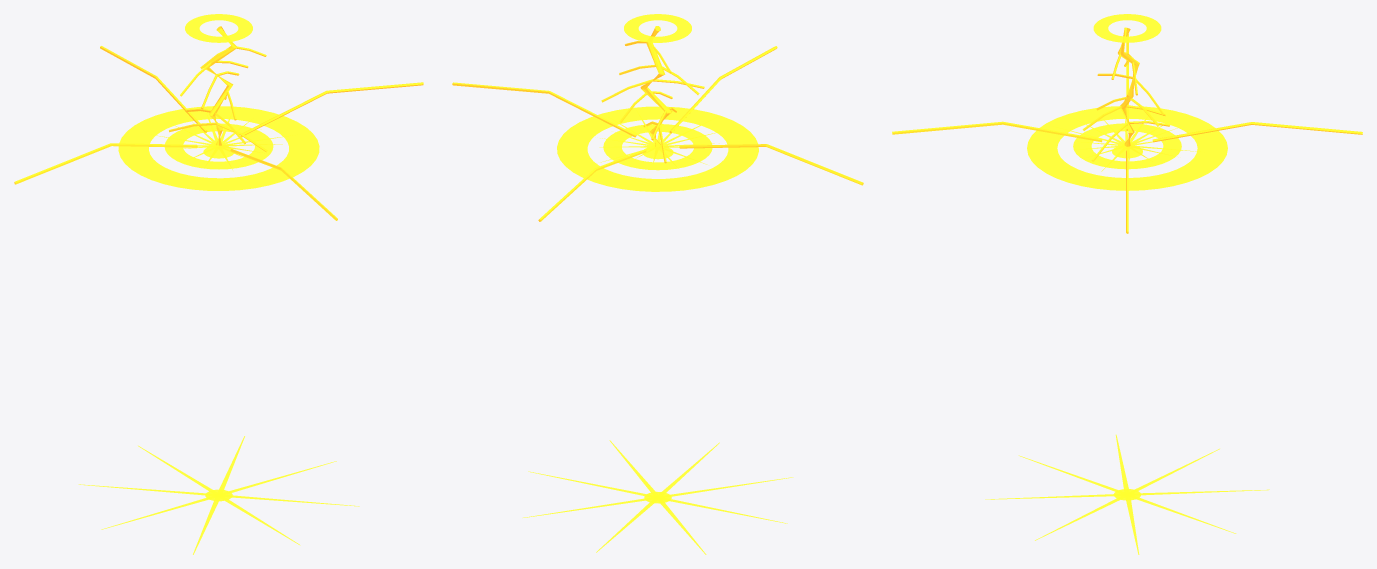
Rendered from leaderboard-lightning.glb.
3 renders of one model, left to right at view 1: azimuth 30°, elevation 25°; view 2: azimuth 150°, elevation 25°; view 3: azimuth 270°, elevation 25°, orthographic.
Parts seen in each view (by area): view 1: leaderboard_lightning_apex_strike; view 2: leaderboard_lightning_apex_strike; view 3: leaderboard_lightning_apex_strike.
Boxes of the visible parts, x1,y1,x2,y2 form: leaderboard_lightning_apex_strike: (14, 14, 423, 554); leaderboard_lightning_apex_strike: (452, 14, 863, 554); leaderboard_lightning_apex_strike: (892, 14, 1362, 554).
Size of the model in its own units: 10.21 by 11.2 by 10.21.
